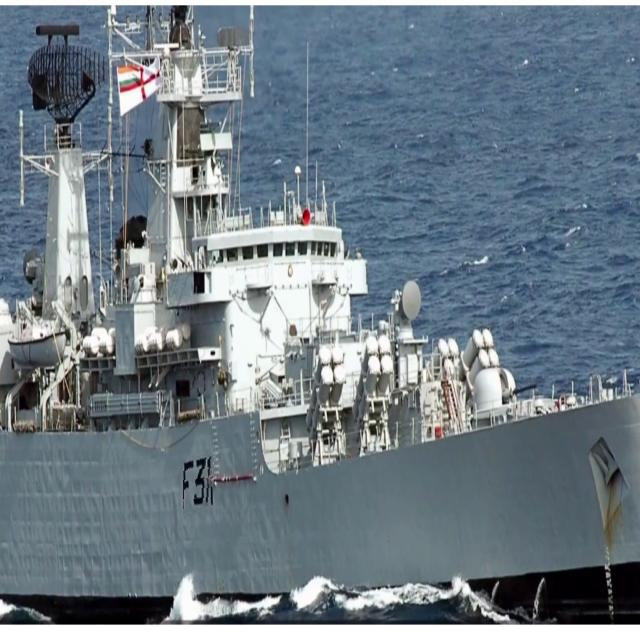OCR: (183, 456, 215, 515)
